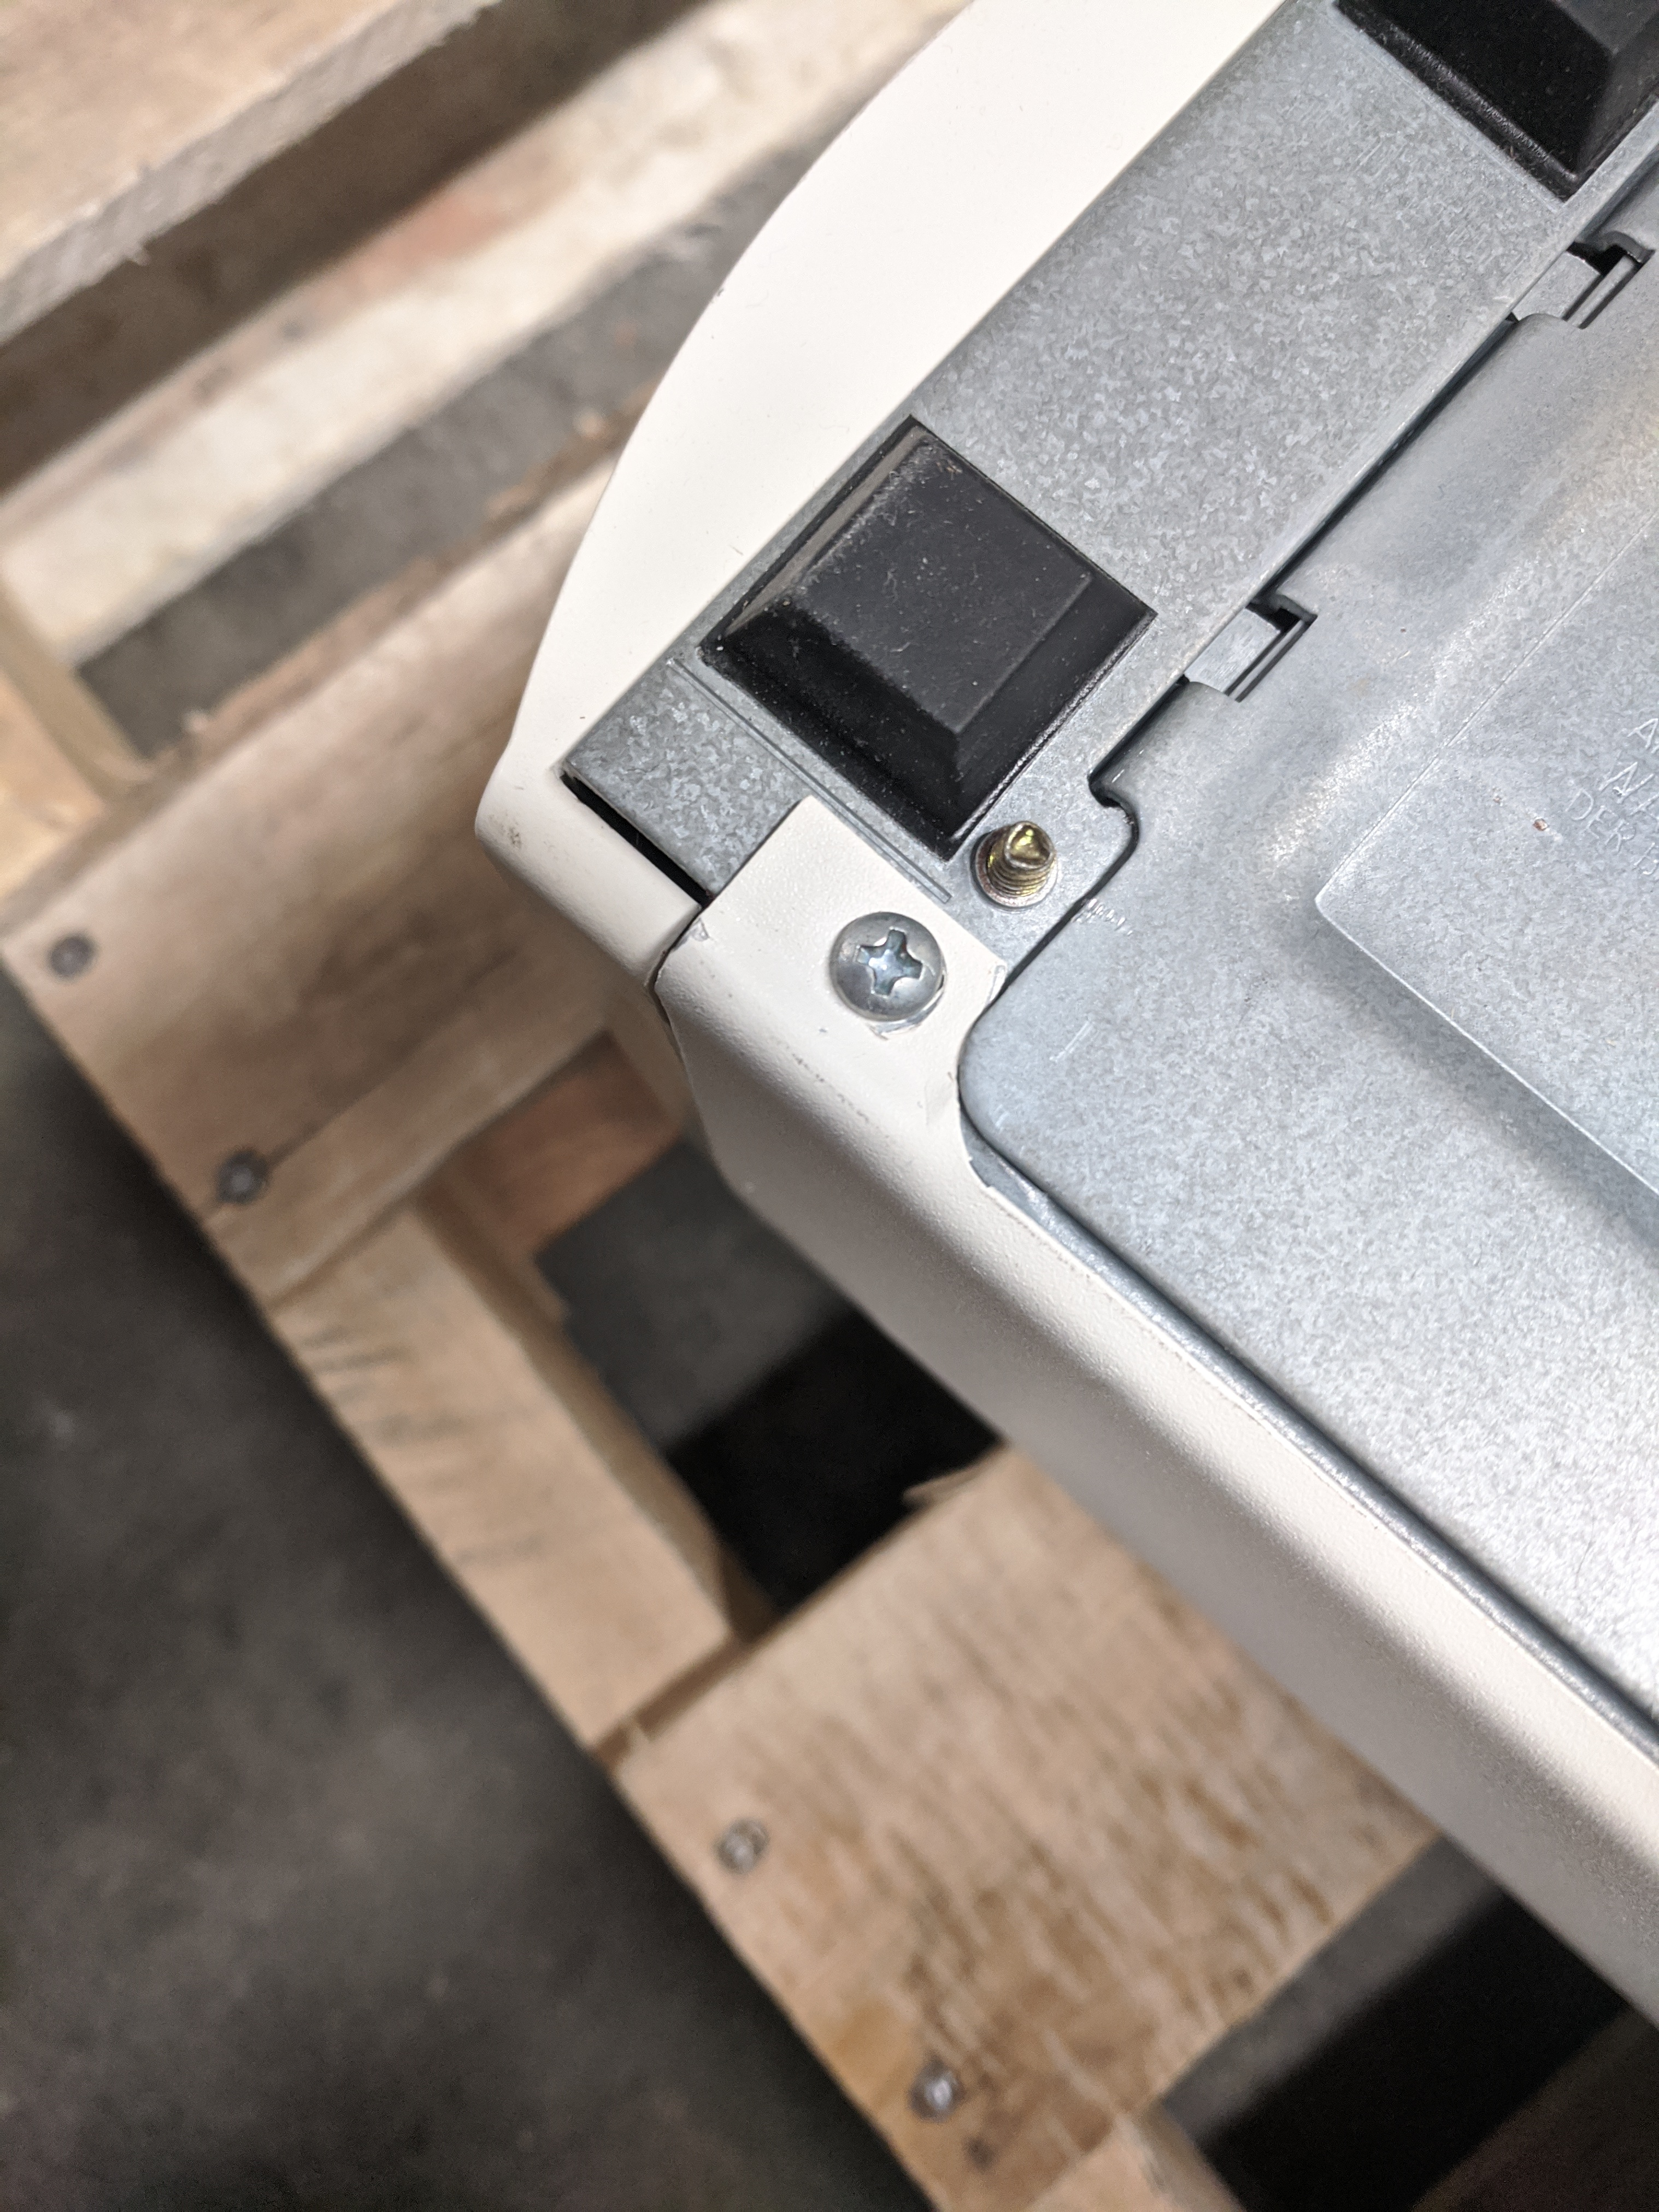cross_recessed_screw: (817, 890, 958, 1033)
